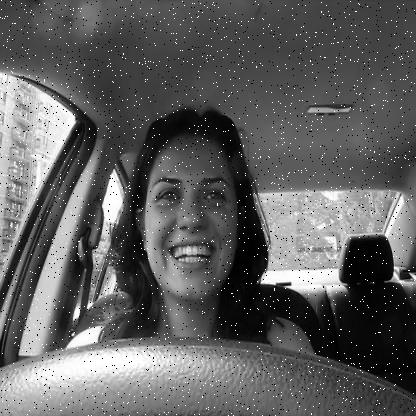no_seatbelt: (74, 88, 272, 416)
